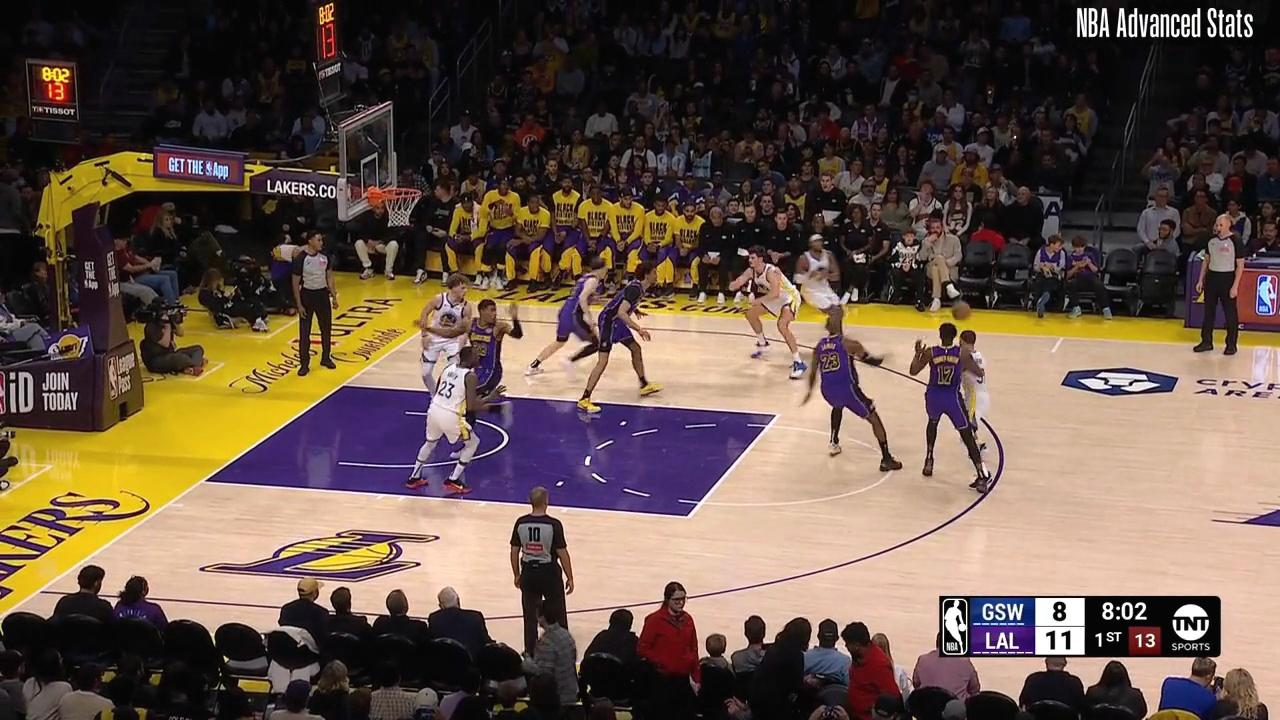basketball: (951, 297, 974, 323)
